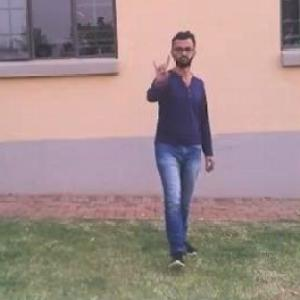takeoff-hand: (145, 49, 174, 91)
